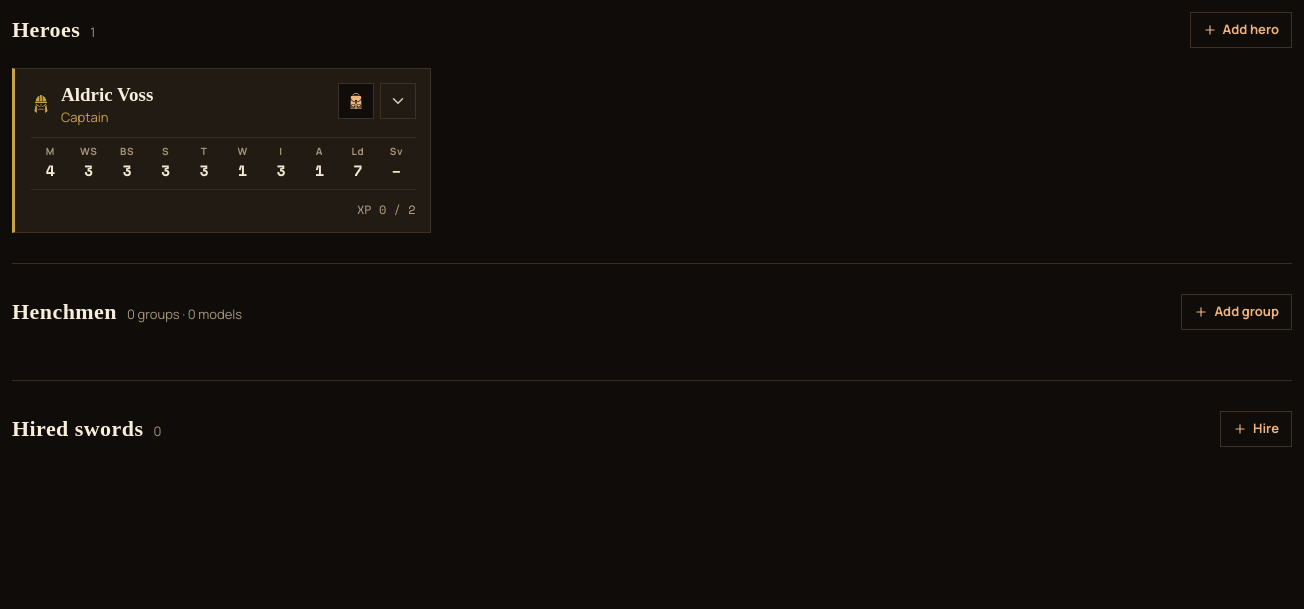
Test: Recruiting from the roster › keeps the form when the recruit fails, and Cancel closes it
This screenshot has width=1304, height=609.
Click the button "Add hero" at (1241, 30), box [1190,12,1292,48]
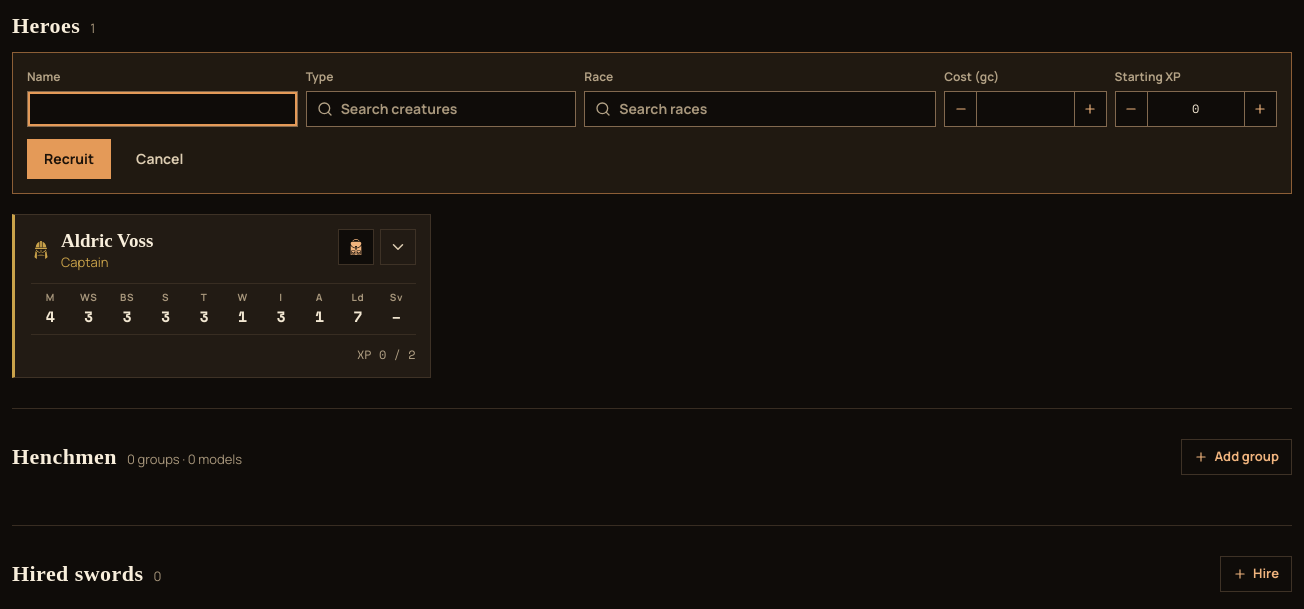
Type "Kurt" into the field labelled "Name" at (162, 108), box [27,90,298,126]
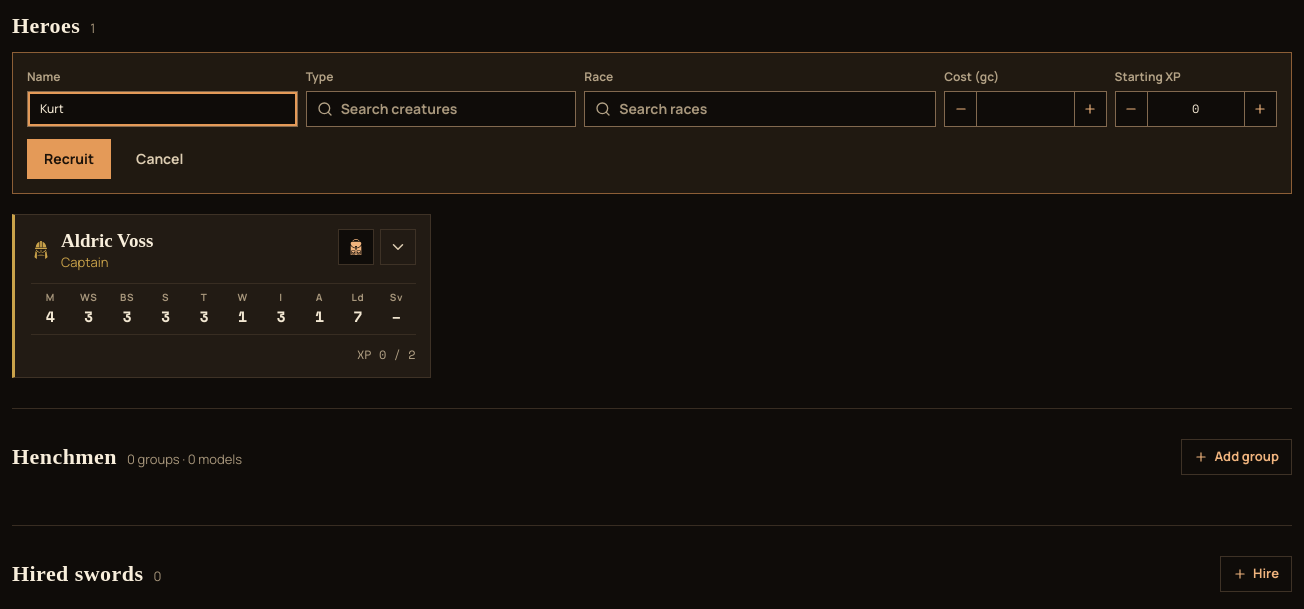
Click the button "Recruit" at (69, 158), box [27,138,111,178]
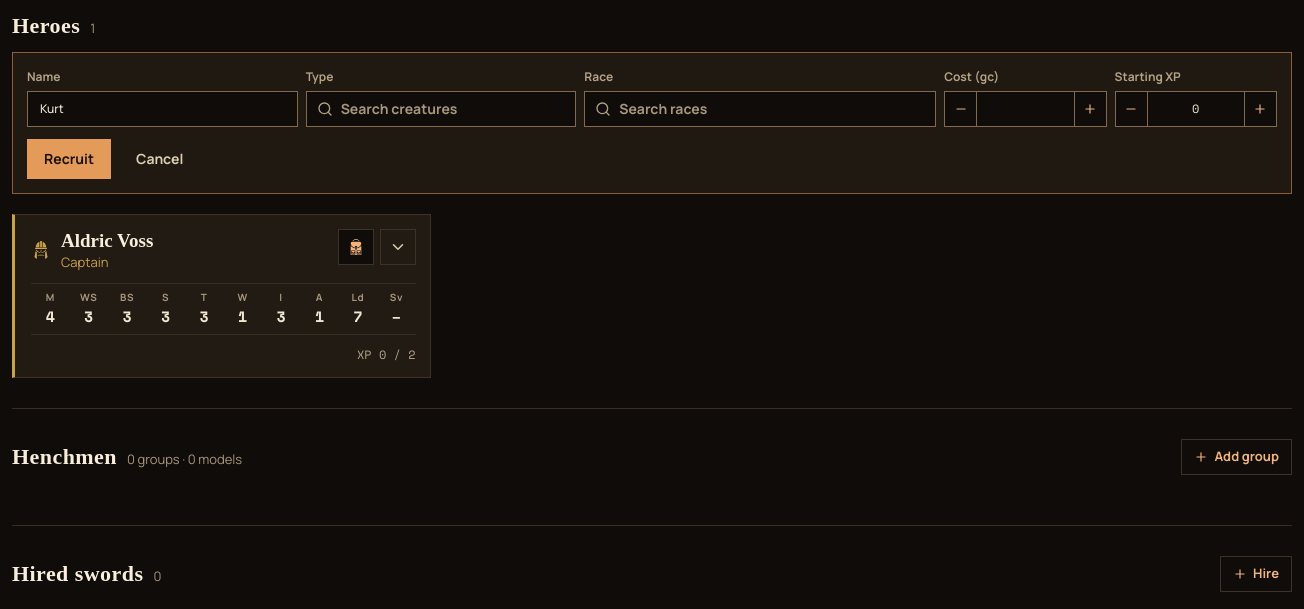
Expected: the form "Recruit" is shown, [27,66,1277,178]
Click the button "Cancel" at (160, 158), box [119,138,200,178]
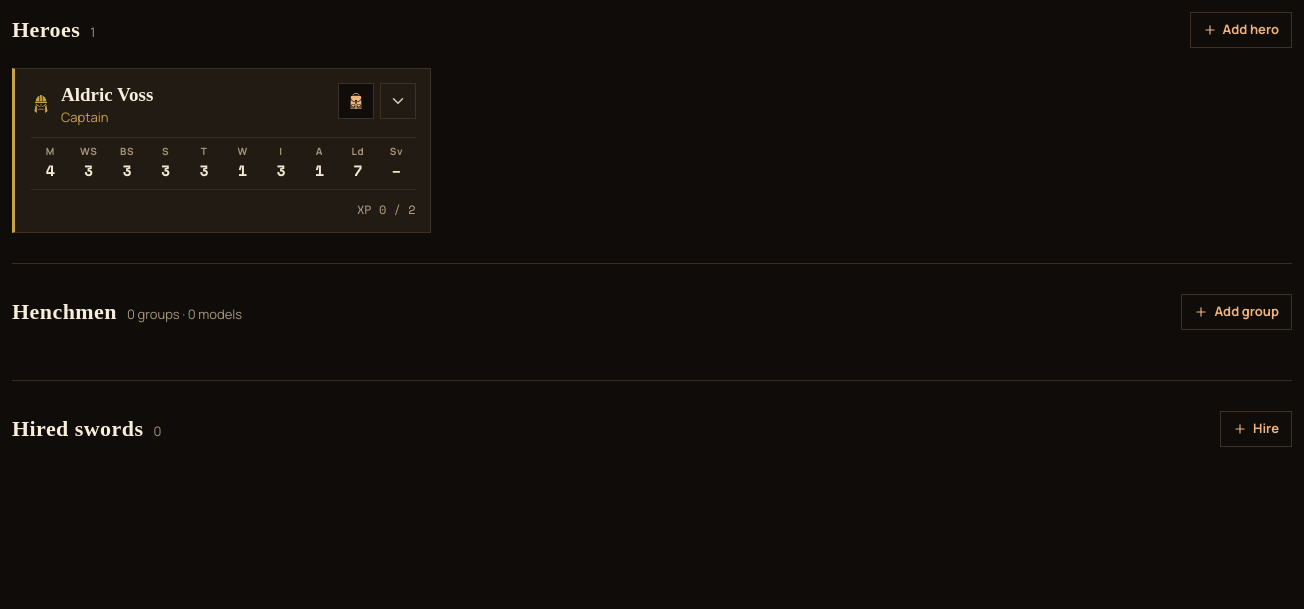
Expected: the button "Recruit" is gone
